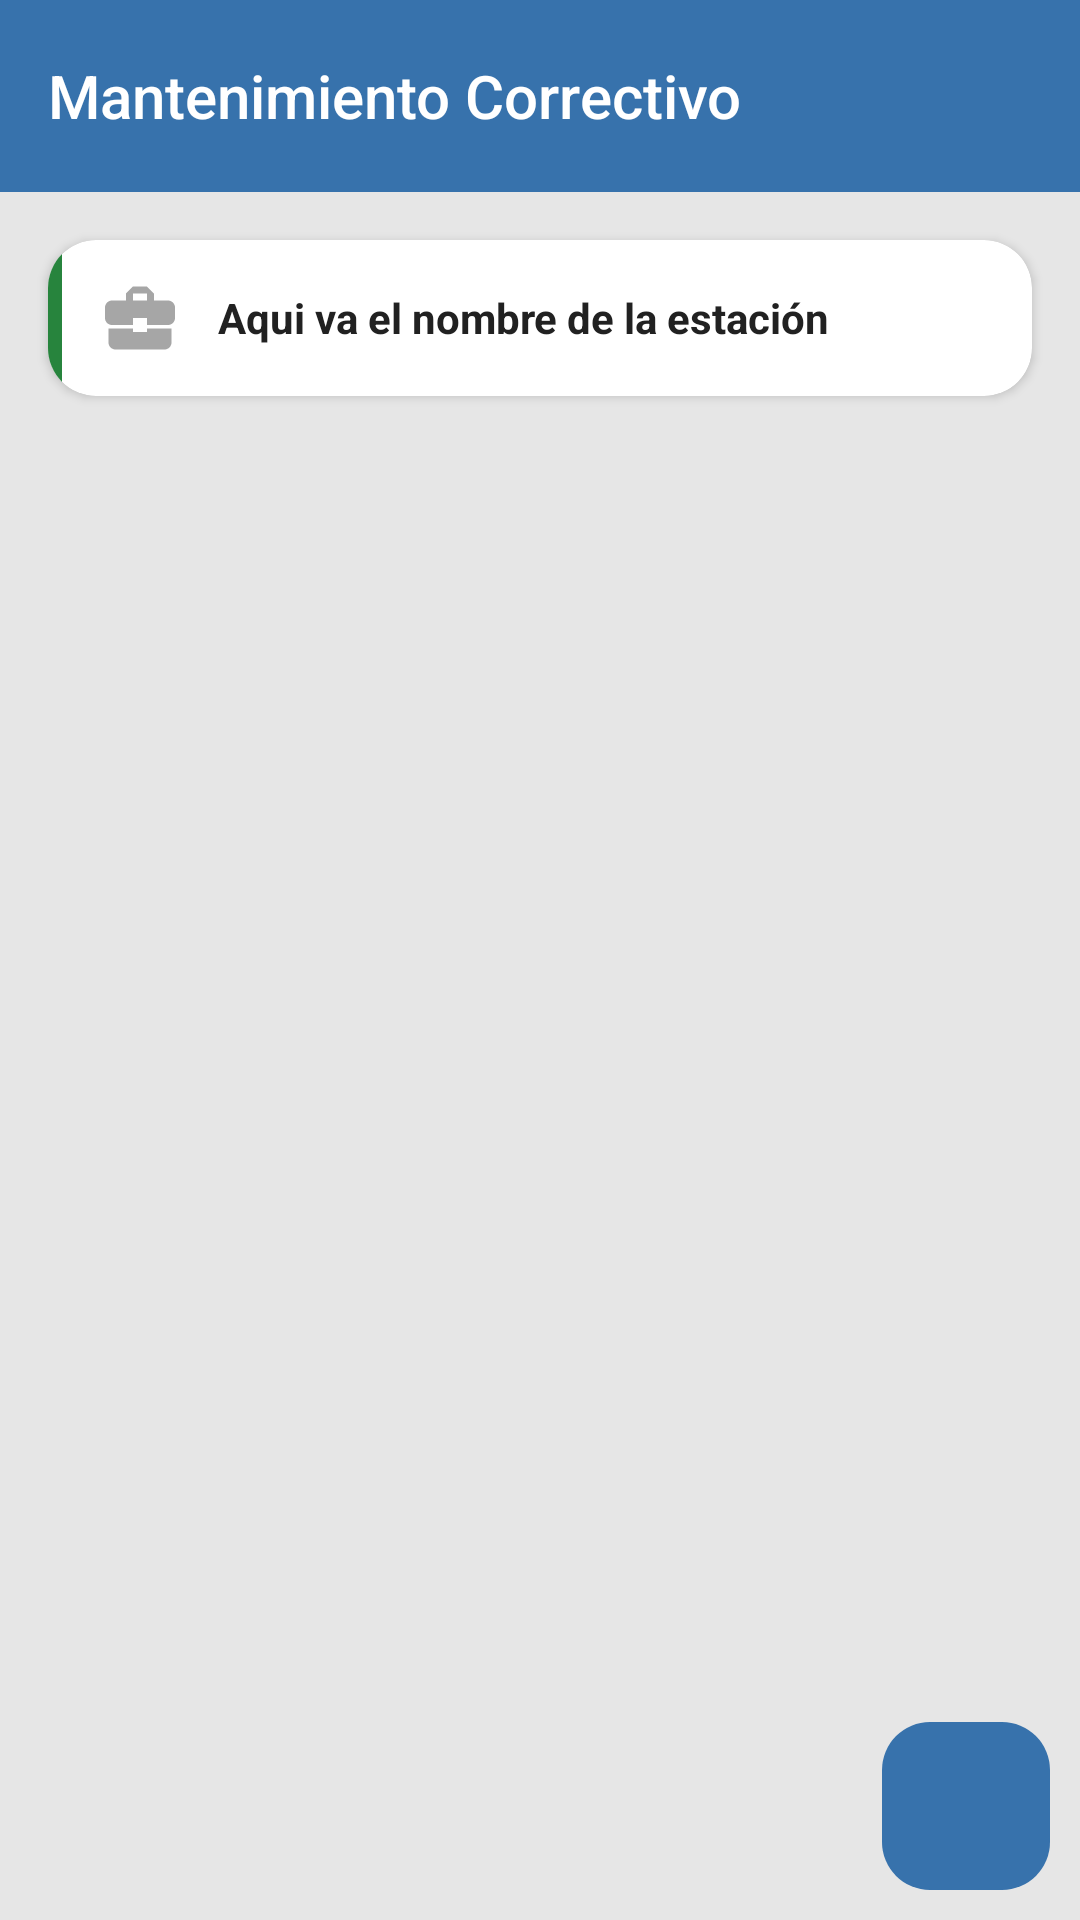

Named icons in this screenshot (1080 x 1920) and their bounding boxes, [x1,y1,x2,y2]:
business: [105,286,175,350]
